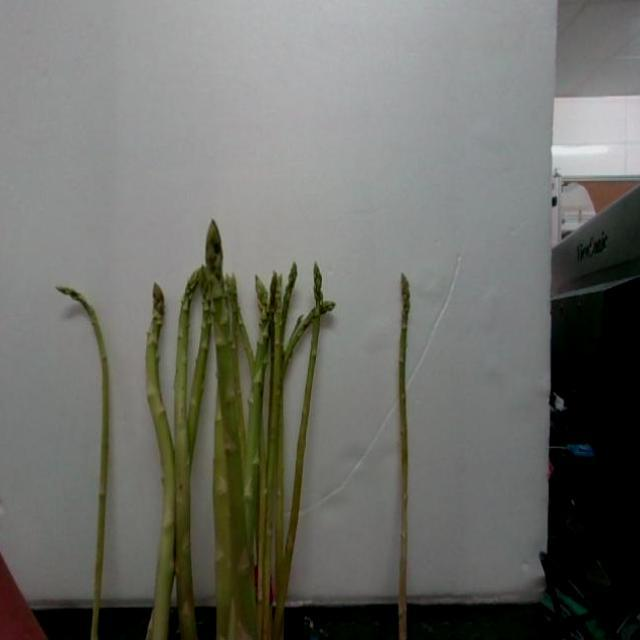aspargus: (59, 288, 112, 640), (397, 274, 414, 640)
